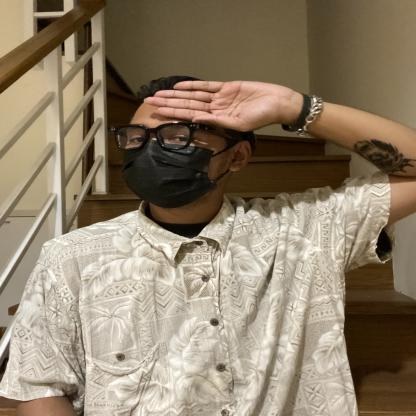Sick: (72, 64, 320, 182)
